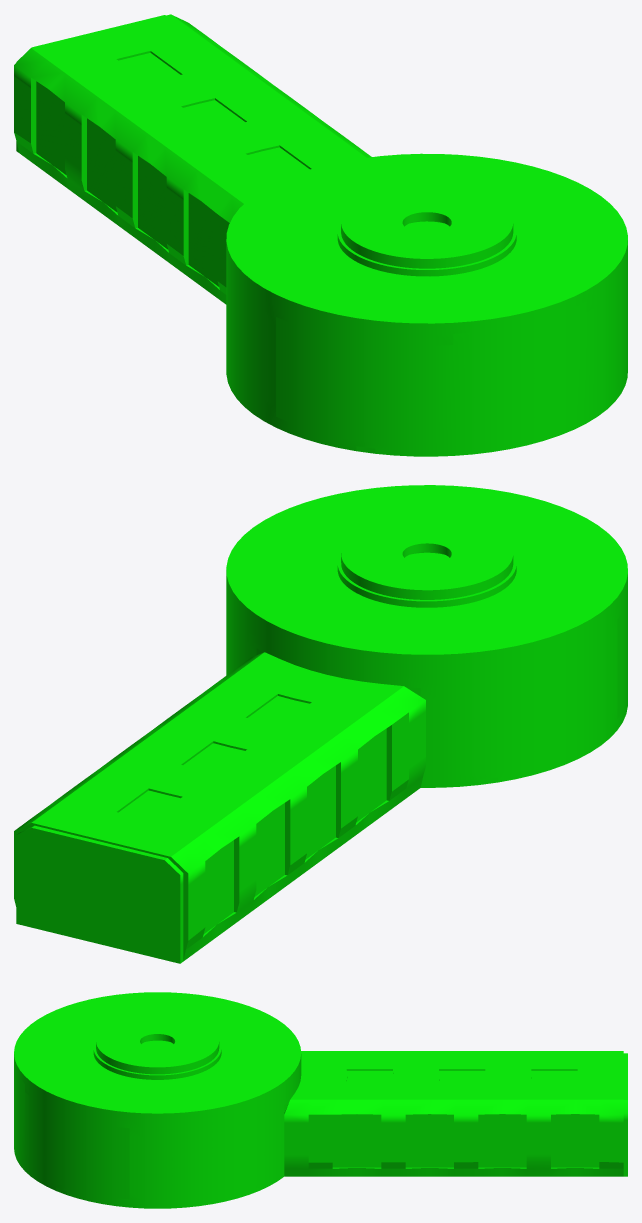
The model's file is 1ship.fbx.
3 views of the same model, one above another, from view 1: azimuth 30°, elevation 25°; view 2: azimuth 150°, elevation 25°; view 3: azimuth 270°, elevation 25° (orthographic). The views are drawn at different scales.
Parts seen in each view (by area): view 1: Cylinder, Cylinder.002, Cylinder.012, Cylinder.013, Cylinder.003; view 2: Cylinder, Cylinder.002, Cylinder.013, Cylinder.006, Cylinder.007, Cylinder.008, Cylinder.012, Cylinder.003; view 3: Cylinder, Cylinder.002, Cylinder.013, Cylinder.012, Cylinder.006, Cylinder.003.
Boxes of the visible parts, left/top/right/bottom form: Cylinder: left=226, top=153, right=627, bottom=456; Cylinder.002: left=14, top=14, right=371, bottom=304; Cylinder.012: left=276, top=262, right=627, bottom=445; Cylinder.013: left=36, top=53, right=309, bottom=286; Cylinder.003: left=402, top=212, right=451, bottom=232; Cylinder: left=226, top=485, right=627, bottom=787; Cylinder.002: left=14, top=652, right=425, bottom=961; Cylinder.013: left=119, top=696, right=386, bottom=933; Cylinder.006: left=16, top=825, right=183, bottom=963; Cylinder.007: left=86, top=855, right=151, bottom=956; Cylinder.008: left=45, top=845, right=109, bottom=943; Cylinder.012: left=617, top=596, right=627, bottom=718; Cylinder.003: left=402, top=543, right=451, bottom=564; Cylinder: left=14, top=992, right=301, bottom=1208; Cylinder.002: left=284, top=1051, right=623, bottom=1176; Cylinder.013: left=332, top=1070, right=599, bottom=1167; Cylinder.012: left=14, top=1062, right=129, bottom=1199; Cylinder.006: left=623, top=1053, right=627, bottom=1176; Cylinder.003: left=140, top=1034, right=175, bottom=1048.
Bounding box in the file's own units: 14123 × 6188 × 30189.
